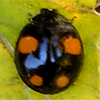Two_spots_mutant: (14, 7, 84, 94)
